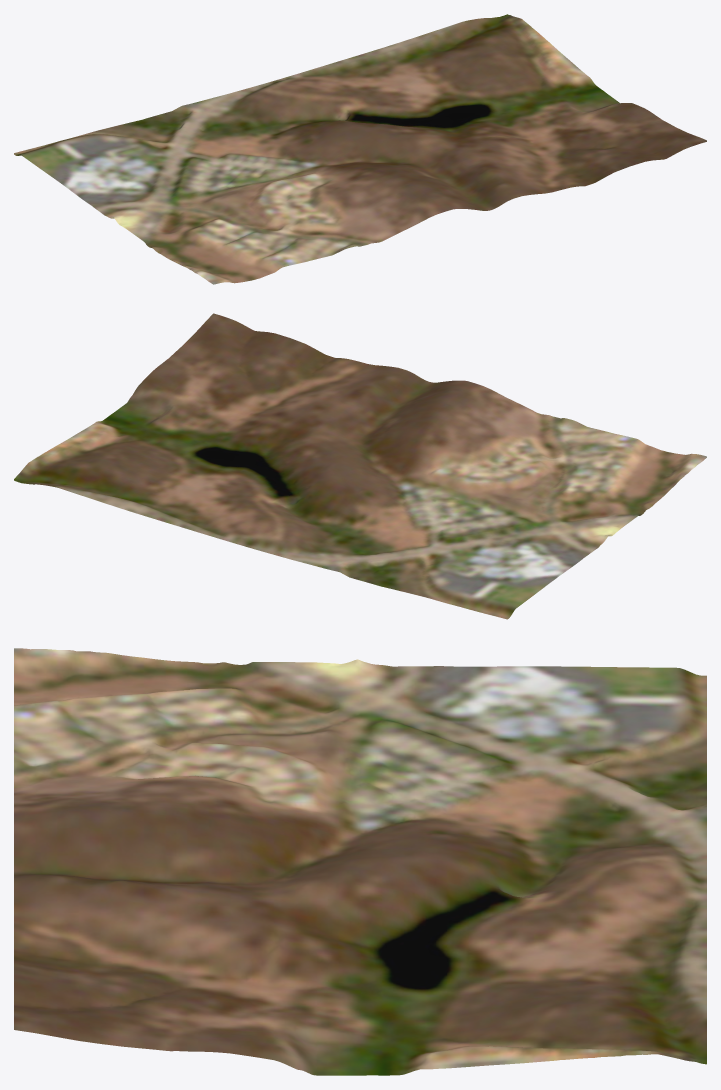
File: terrain_r6_c5.glb
3 renders of one model, top to bottom at view 1: azimuth 30°, elevation 25°; view 2: azimuth 150°, elevation 25°; view 3: azimuth 270°, elevation 25°, orthographic. The views are drawn at different scales.
Visible parts, largest first — view 1: terrain_r6_c5_lod0; view 2: terrain_r6_c5_lod0; view 3: terrain_r6_c5_lod0.
Boxes of the visible parts, x1,y1,x2,y2 form: terrain_r6_c5_lod0: (14, 14, 706, 284); terrain_r6_c5_lod0: (14, 313, 706, 619); terrain_r6_c5_lod0: (14, 648, 706, 1075).
Size of the model in its own units: 1125 by 86.59 by 787.
1 material, 1 textured.
